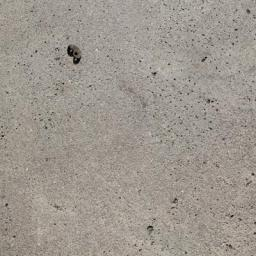FOD: (64, 41, 88, 68)
